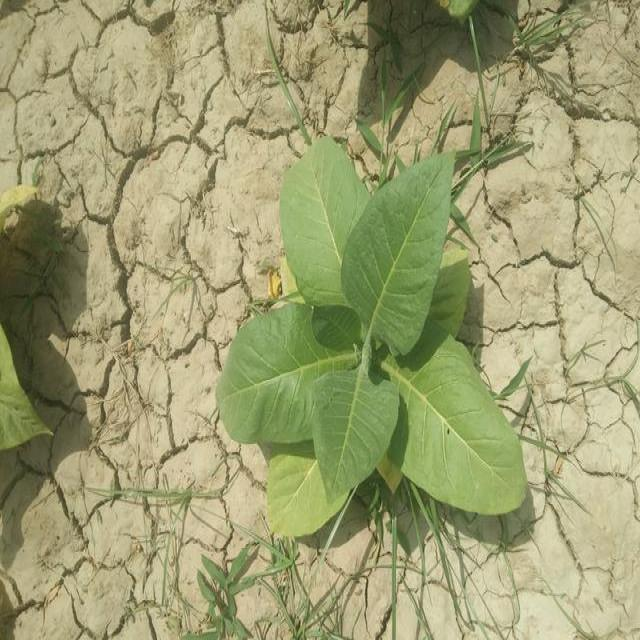crop: (231, 144, 528, 535)
